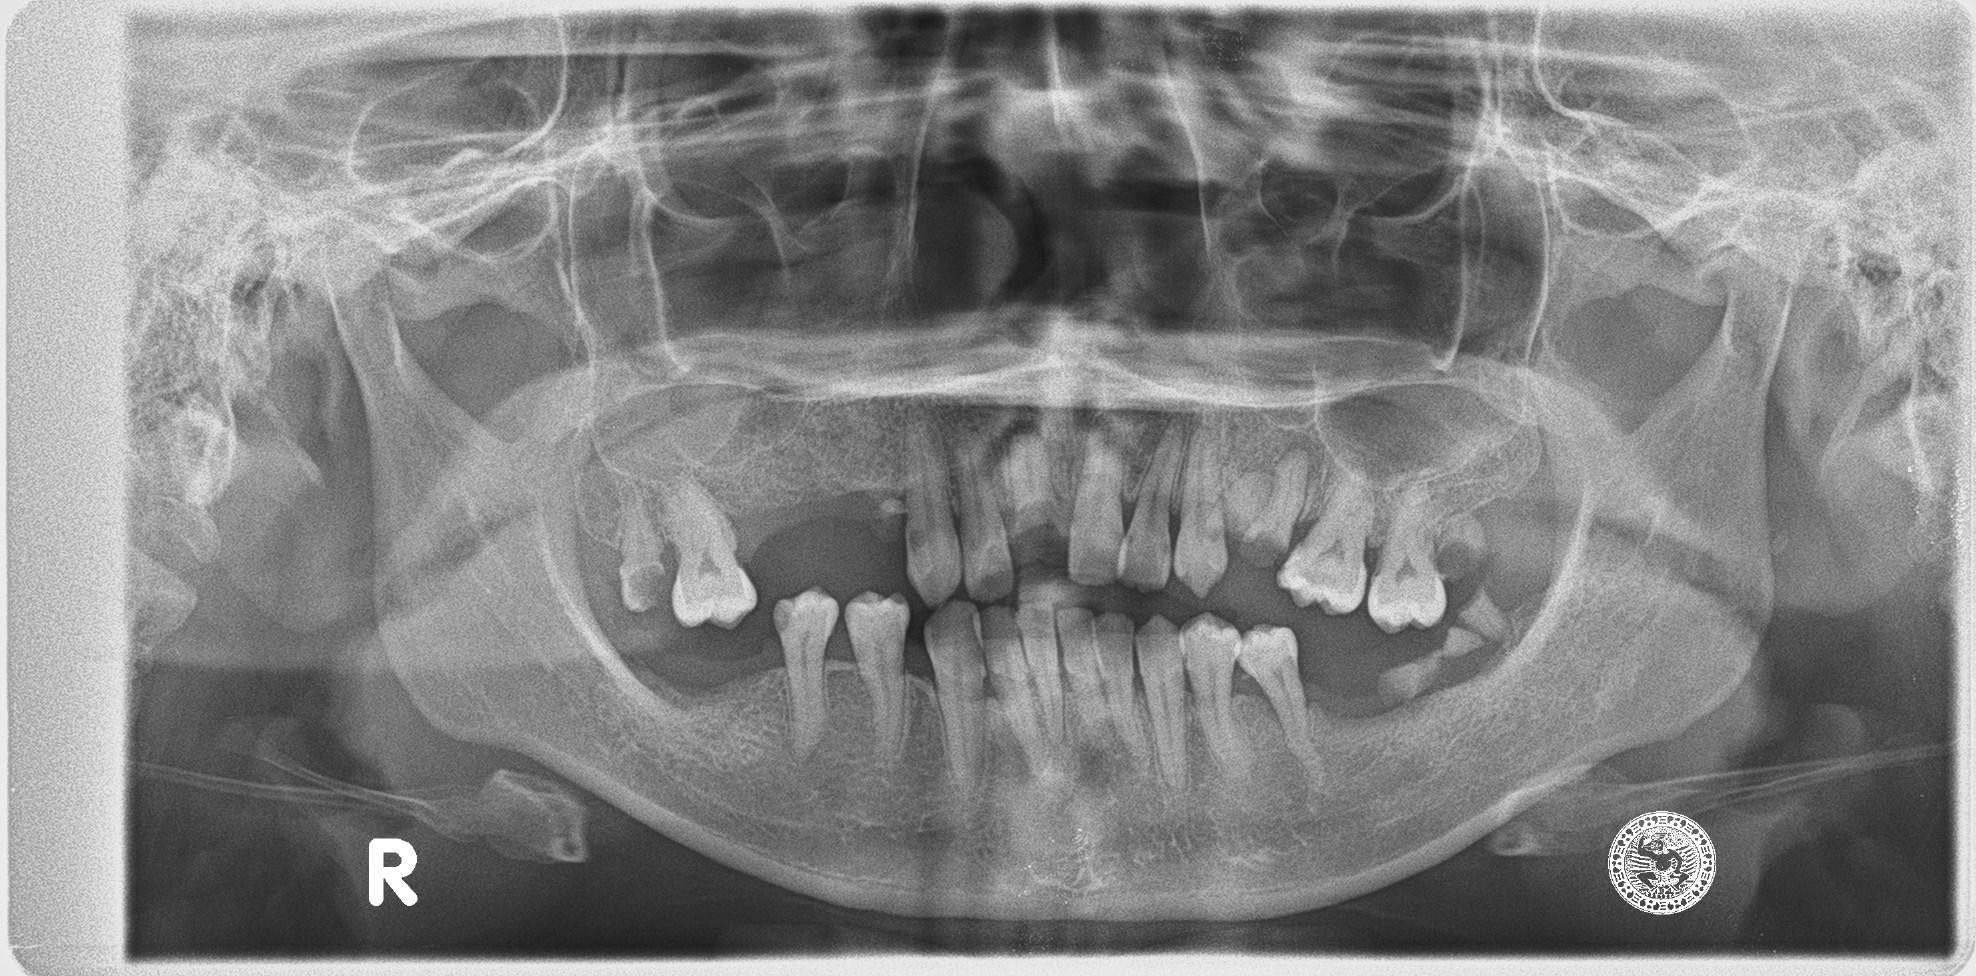Individual Tooth: (664, 477, 757, 628), (1277, 472, 1371, 613), (925, 599, 985, 799), (904, 409, 962, 609), (1367, 484, 1445, 632), (982, 607, 1048, 776), (1238, 625, 1314, 770), (773, 589, 839, 755), (1119, 427, 1186, 590), (844, 591, 909, 760), (1180, 614, 1248, 772), (953, 431, 1011, 607), (1238, 445, 1313, 566), (1173, 429, 1227, 596), (1135, 617, 1187, 789), (1377, 625, 1491, 704), (1069, 433, 1124, 585), (1095, 612, 1147, 757), (1016, 601, 1064, 747), (1056, 607, 1109, 733), (620, 496, 663, 610), (1435, 511, 1487, 583), (1461, 589, 1514, 641)
